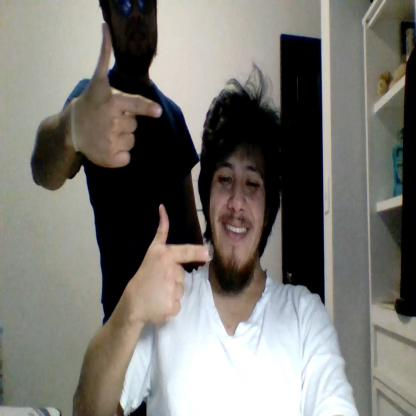G: (80, 22, 162, 167), (146, 204, 209, 322)
